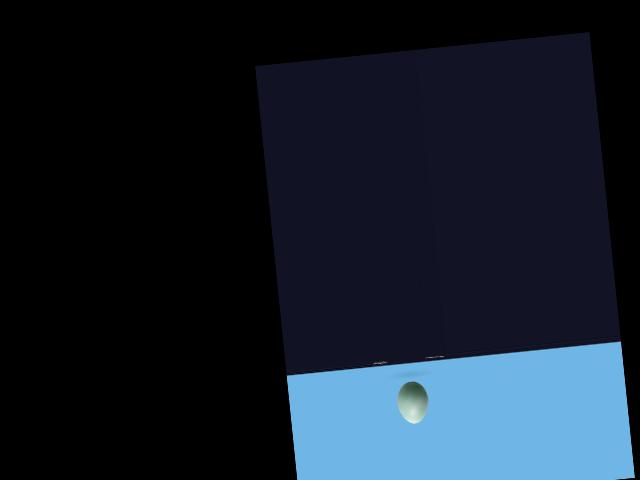egg: (395, 380, 431, 425)
